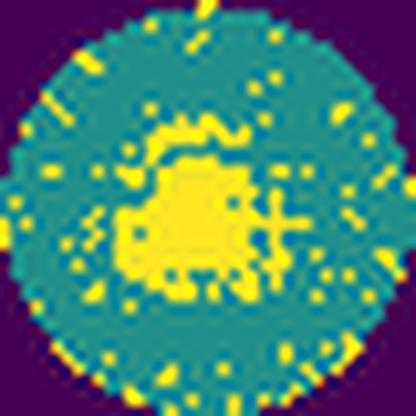Center: (117, 113, 314, 304)
